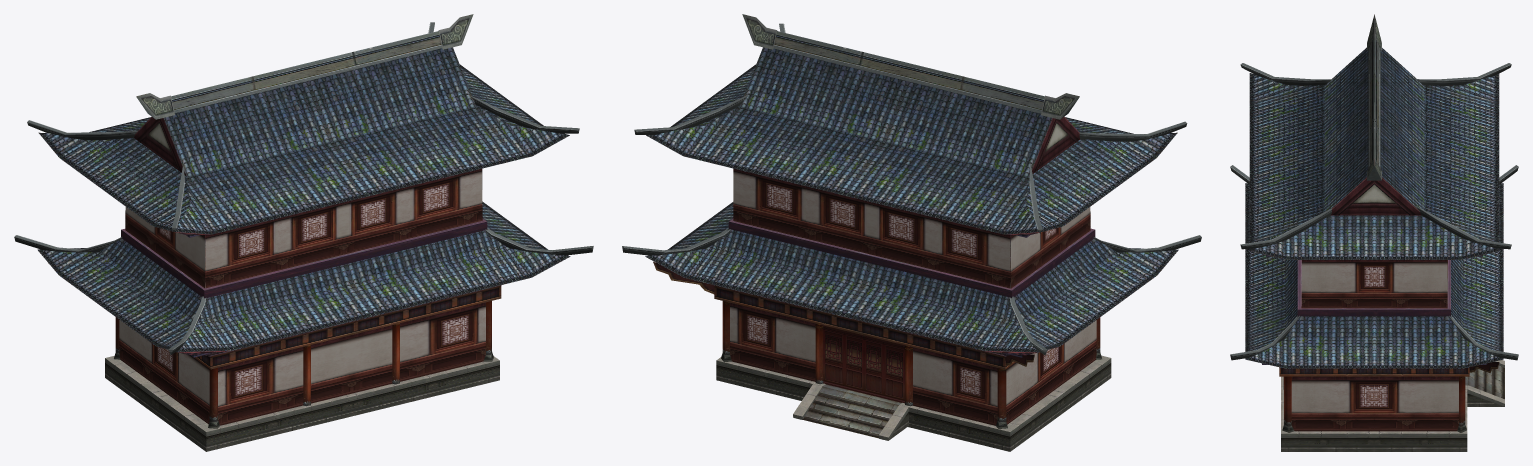
The model's file is Maincity06_Building_mj06_LOD1.FBX.
The picture shows the model from 3 angles, left to right: view 1: azimuth 30°, elevation 25°; view 2: azimuth 150°, elevation 25°; view 3: azimuth 270°, elevation 25°; orthographic projection. The views are drawn at different scales.
Parts seen in each view (by area): view 1: Maincity06_Building_mj06_LOD1; view 2: Maincity06_Building_mj06_LOD1; view 3: Maincity06_Building_mj06_LOD1.
Part boxes in pixels (<box>): Maincity06_Building_mj06_LOD1: <box>14,14,593,451</box>; Maincity06_Building_mj06_LOD1: <box>622,14,1201,451</box>; Maincity06_Building_mj06_LOD1: <box>1230,14,1518,451</box>.
Bounding box in the file's own units: 1669 × 1211 × 1066.
